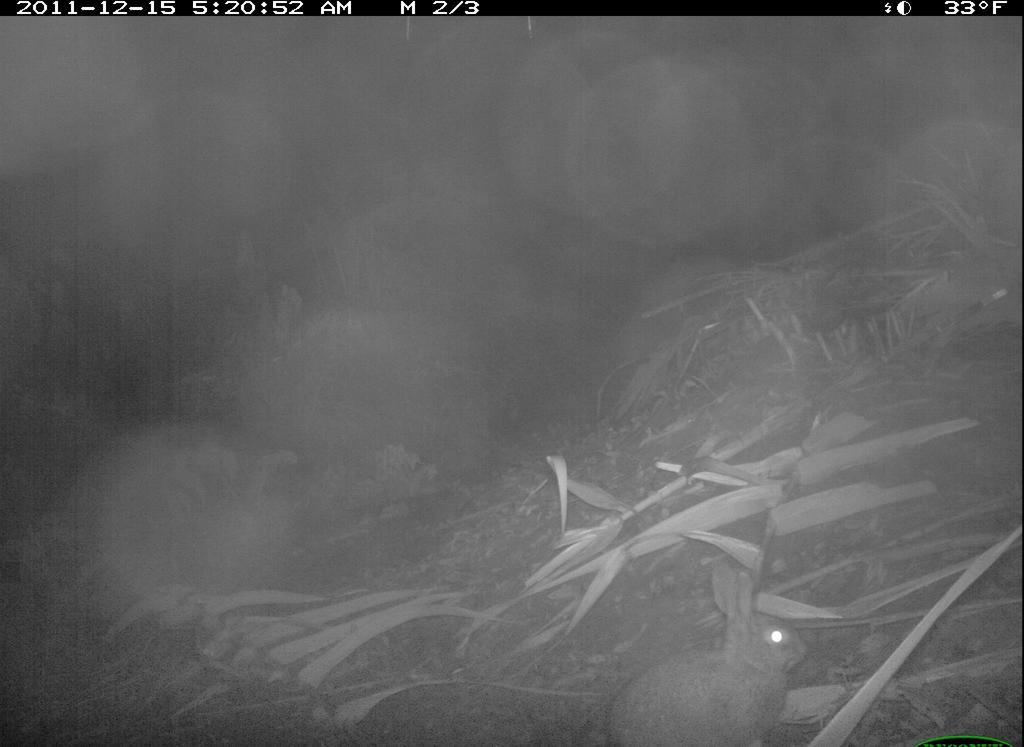rabbit: (584, 547, 811, 747)
